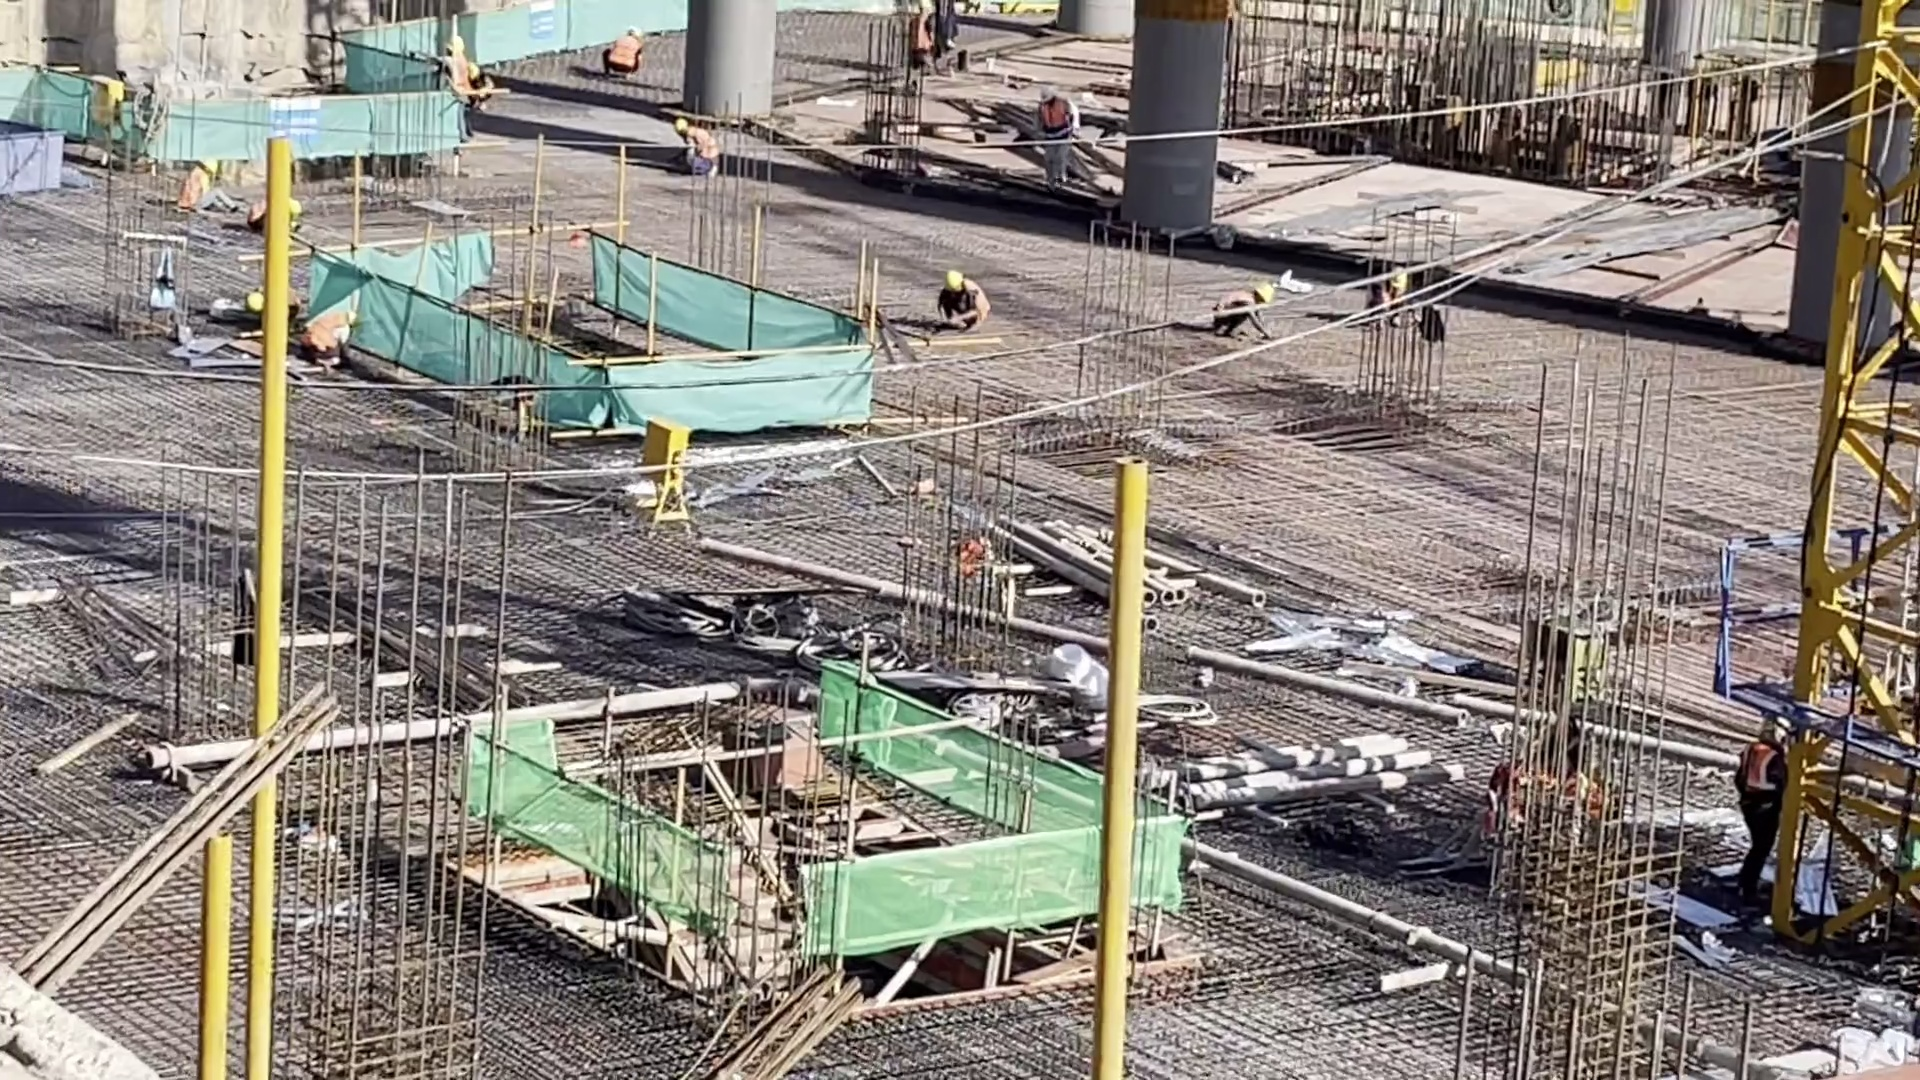ebox: (635, 416, 686, 535), (86, 70, 123, 124)
helmet: (939, 268, 967, 289), (1388, 267, 1406, 289), (245, 294, 264, 314), (1036, 89, 1056, 104), (199, 160, 219, 173), (1255, 288, 1271, 303), (672, 118, 687, 133), (289, 198, 300, 216), (629, 28, 645, 39), (448, 38, 462, 52)
hopper: (1, 111, 65, 199)
person: (1735, 714, 1786, 907), (1036, 88, 1075, 192), (936, 268, 992, 337), (178, 160, 238, 216), (673, 116, 721, 180), (1213, 287, 1270, 339), (604, 27, 646, 88), (909, 1, 936, 71)
slogan: (270, 95, 321, 147), (527, 1, 558, 37)
vest: (1743, 744, 1780, 786), (1038, 96, 1073, 129), (308, 315, 350, 343), (611, 38, 642, 64), (179, 169, 205, 200)
